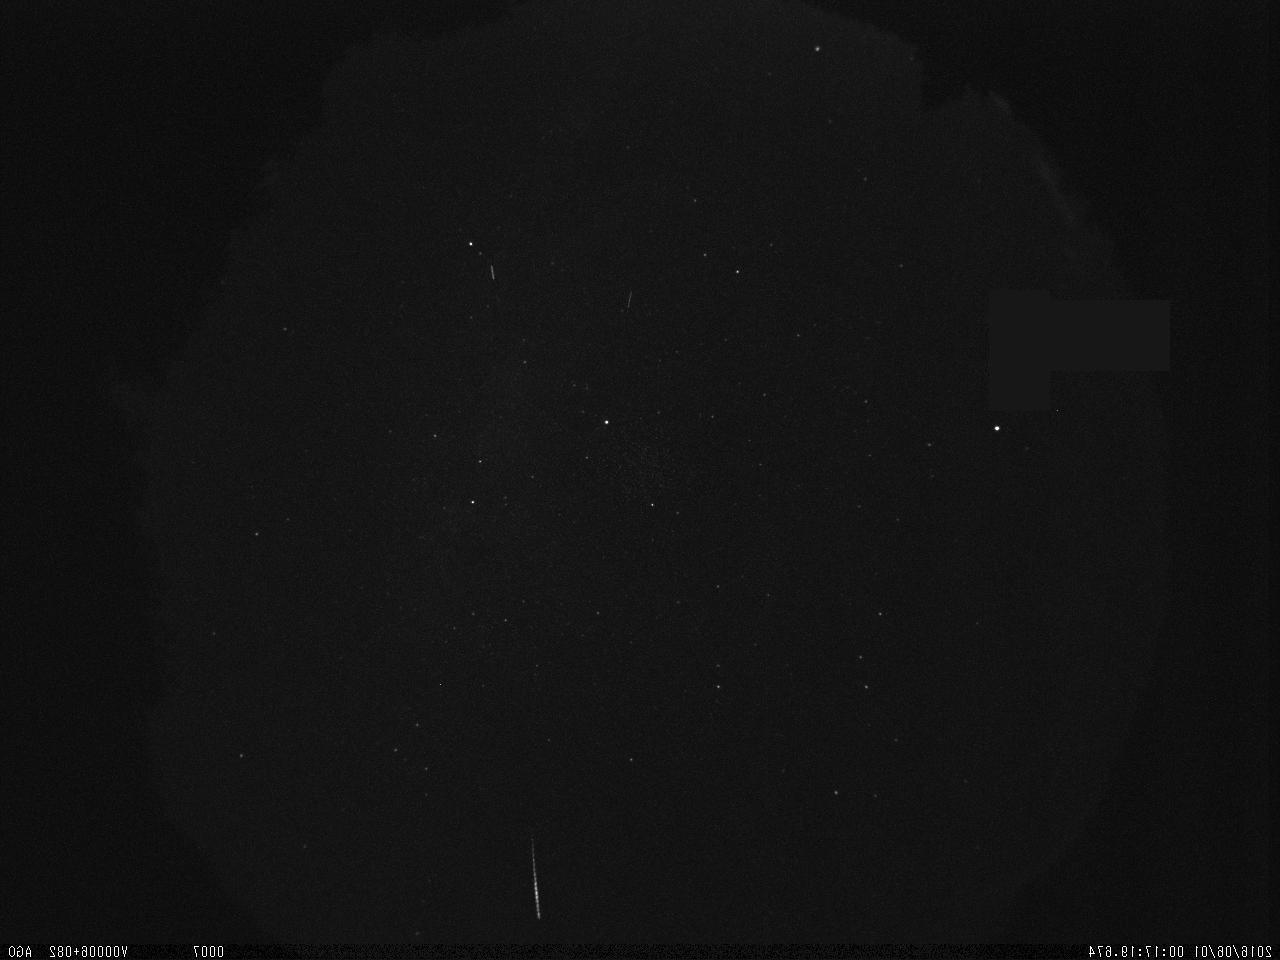meteor: (514, 824, 557, 927)
satelite: (484, 259, 502, 288)
